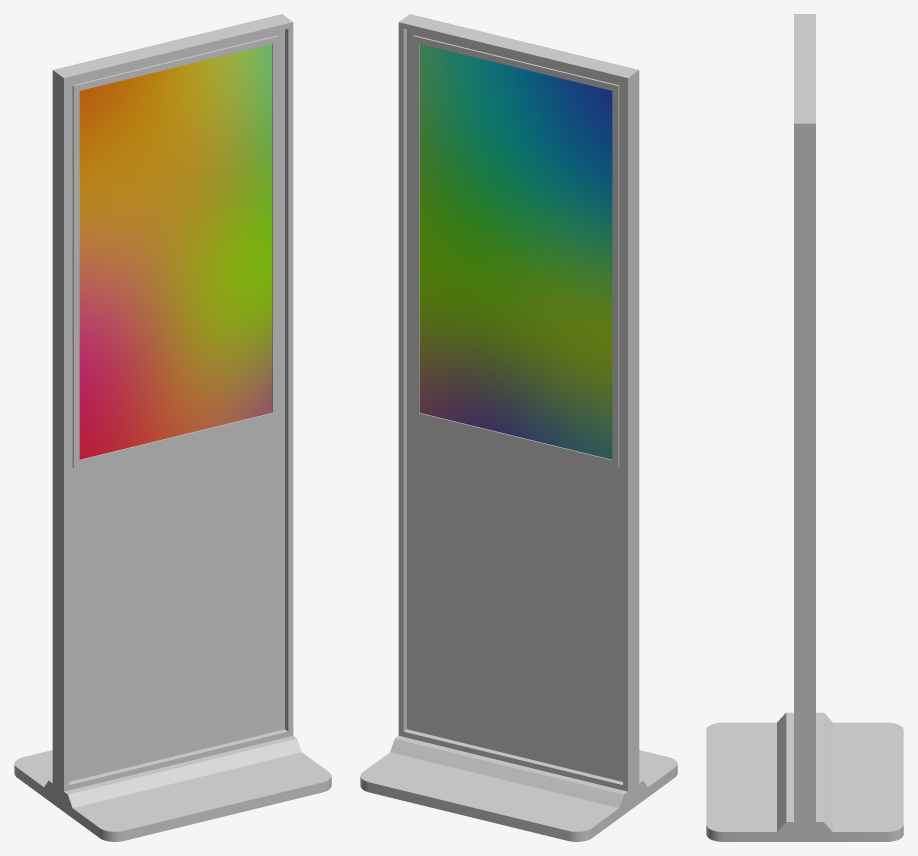
File: digital_information_kiosk_01_small.fbx
The picture shows the model from 3 angles, left to right: view 1: azimuth 30°, elevation 25°; view 2: azimuth 150°, elevation 25°; view 3: azimuth 270°, elevation 25°; orthographic projection. The views are drawn at different scales.
Parts seen in each view (by area): view 1: digital_information_kiosk_01_small; view 2: digital_information_kiosk_01_small; view 3: digital_information_kiosk_01_small.
Boxes of the visible parts, box(x1,y1,x2,y2) form: digital_information_kiosk_01_small: box(14, 14, 331, 841); digital_information_kiosk_01_small: box(360, 14, 677, 841); digital_information_kiosk_01_small: box(706, 14, 903, 841).
Bounding box in the file's own units: 59.2 × 181 × 45.
